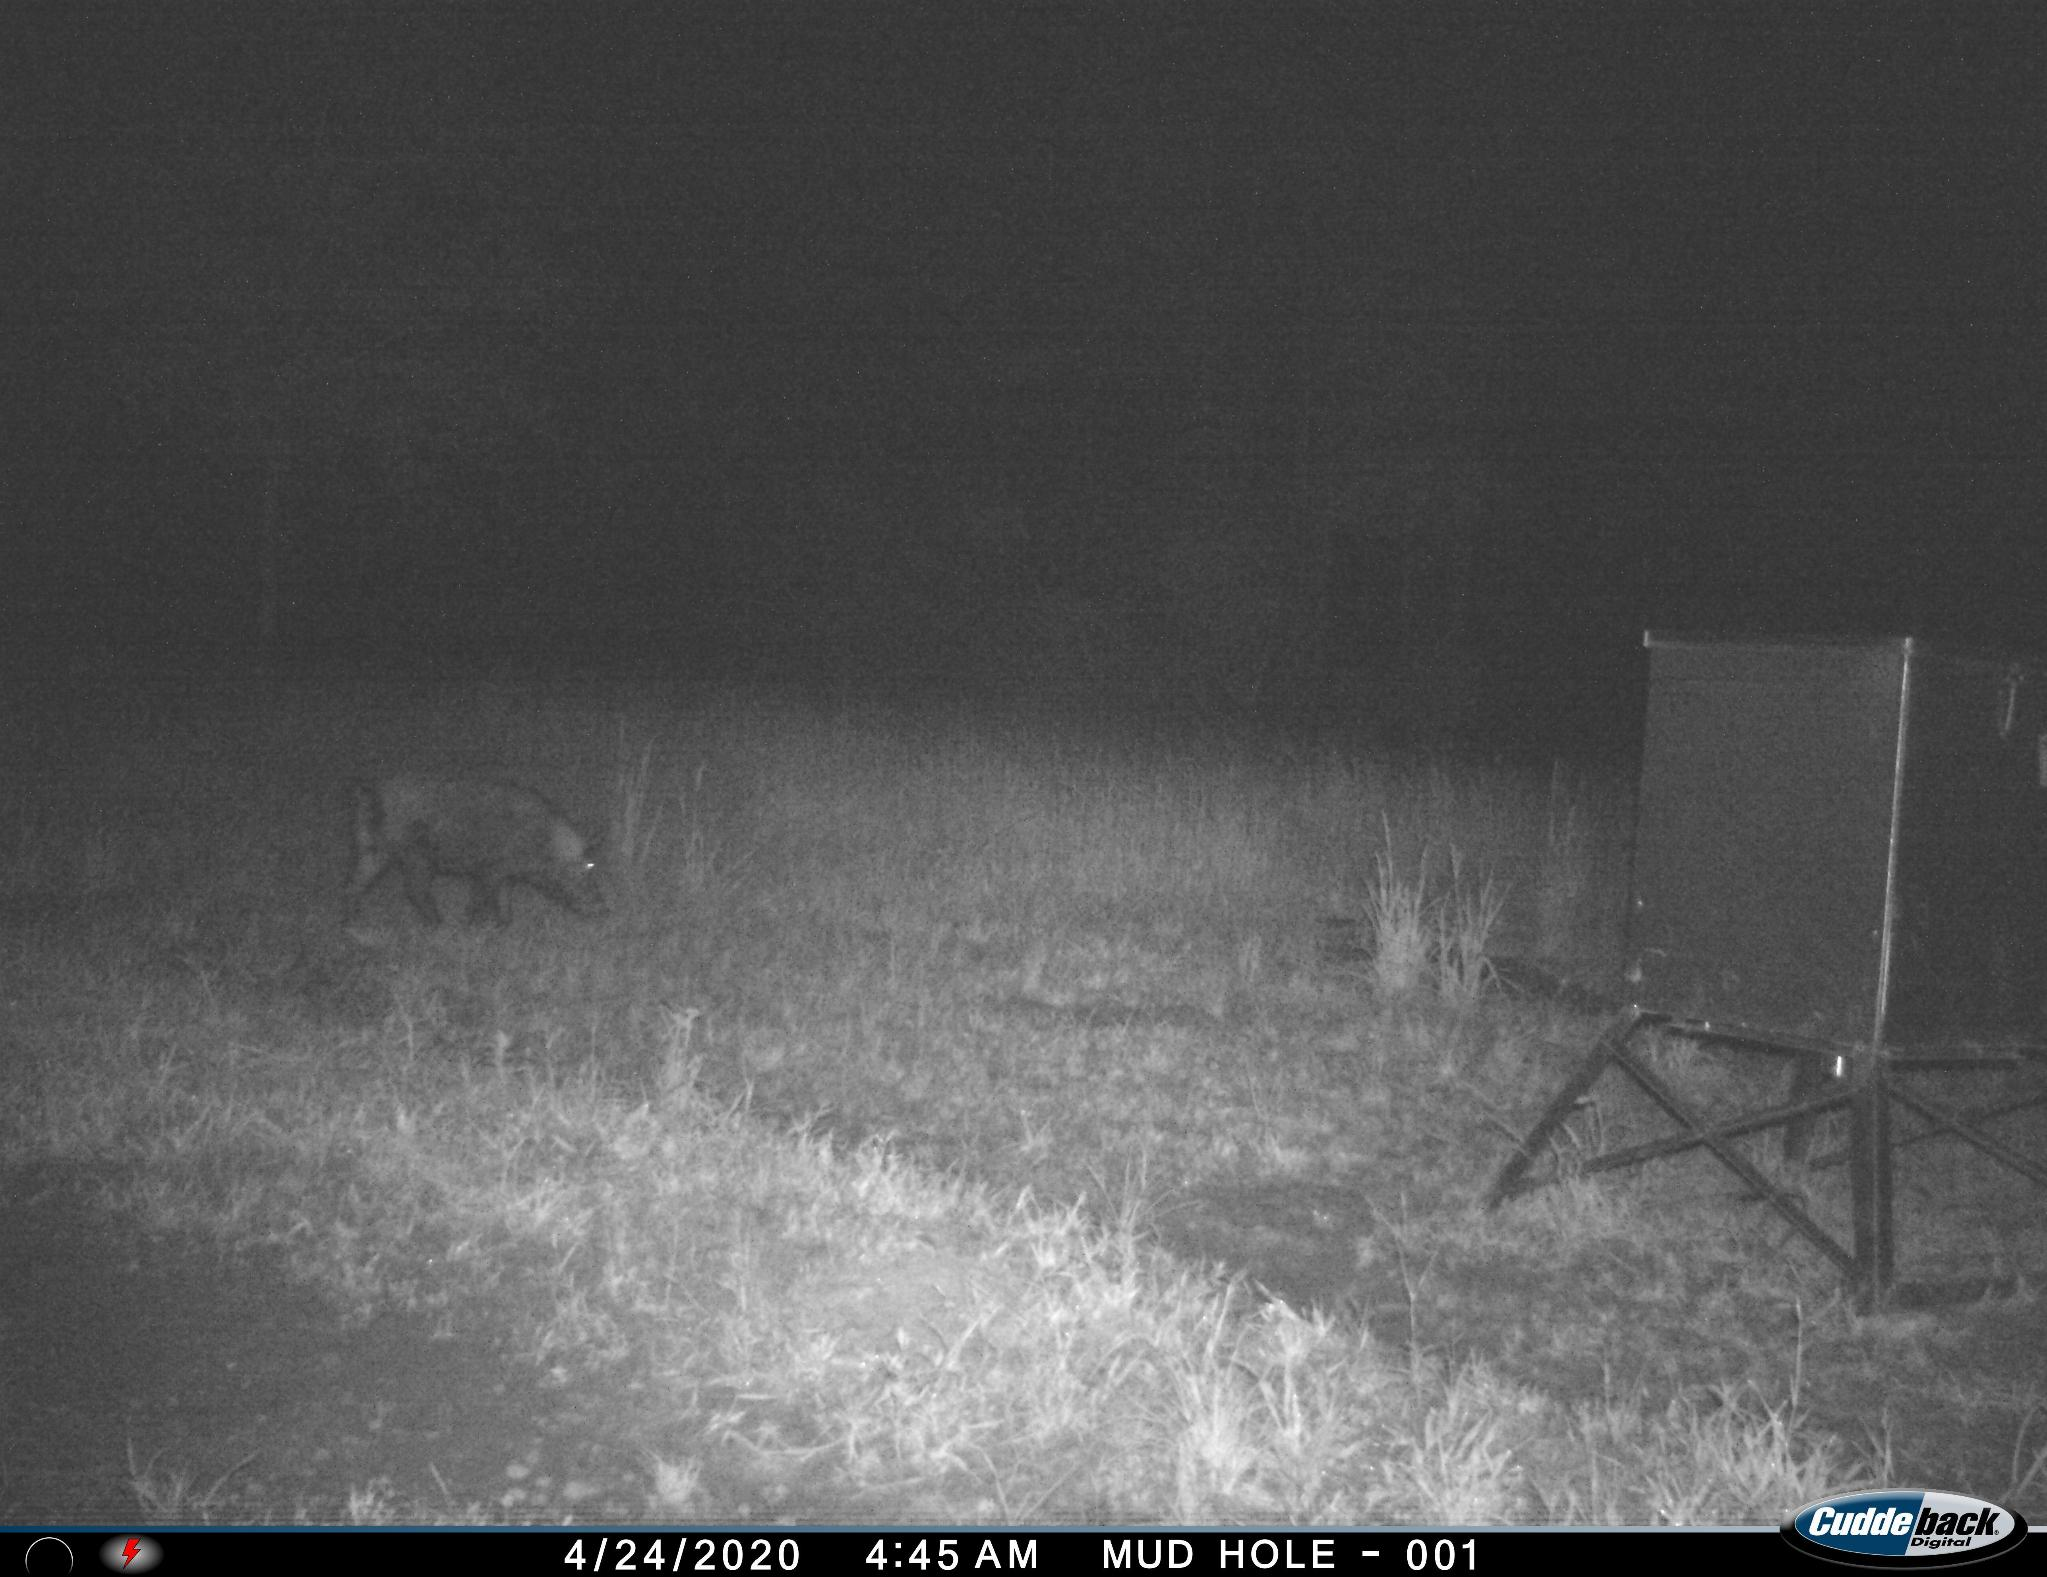Hog: (335, 752, 623, 959)
